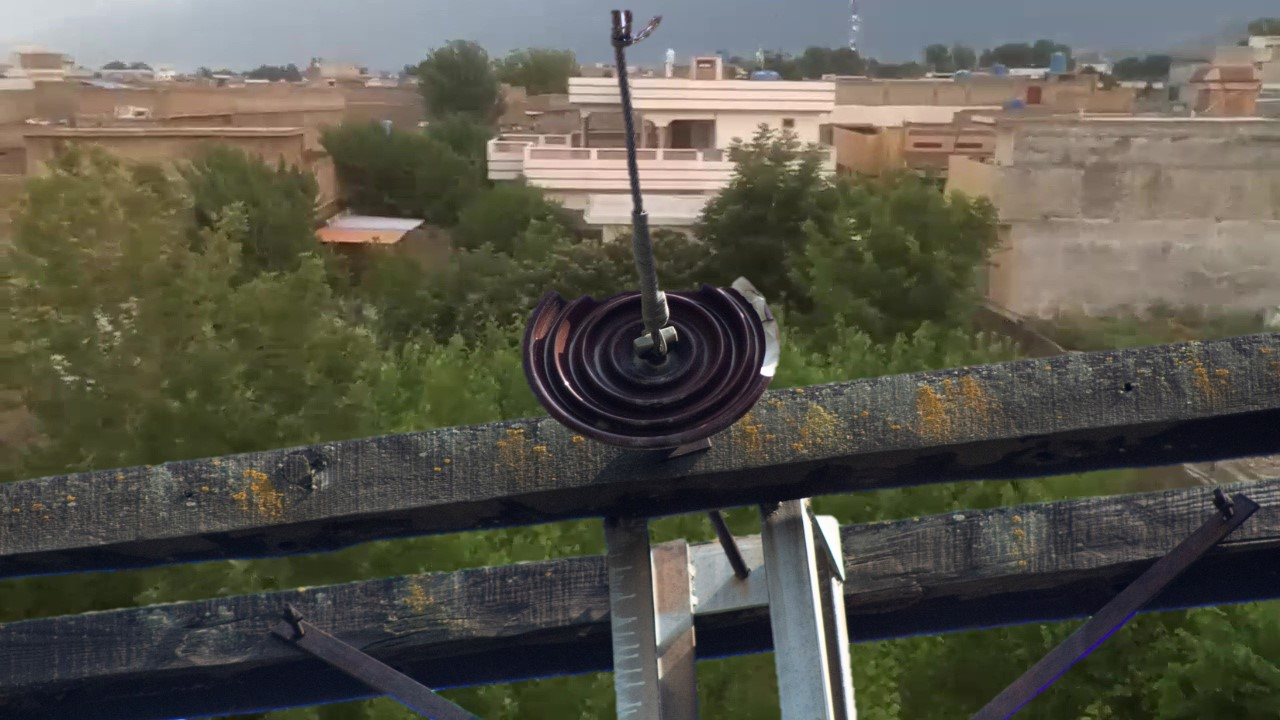defect_disc: (523, 268, 790, 455)
